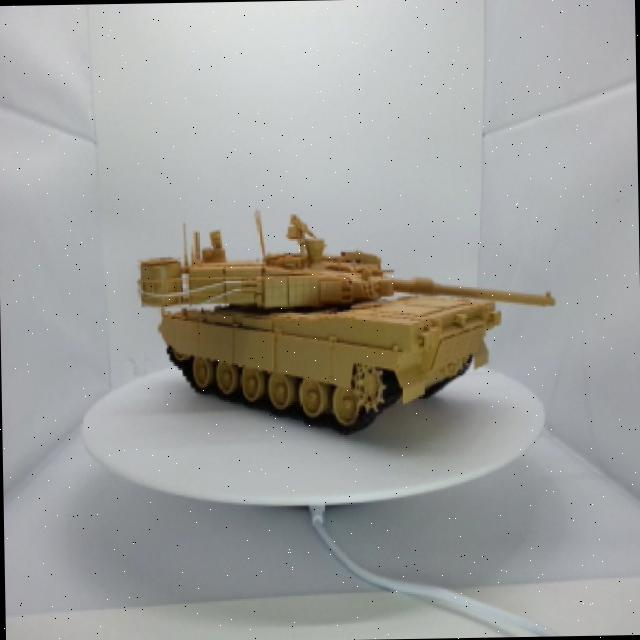korea tank: (130, 182, 572, 442)
